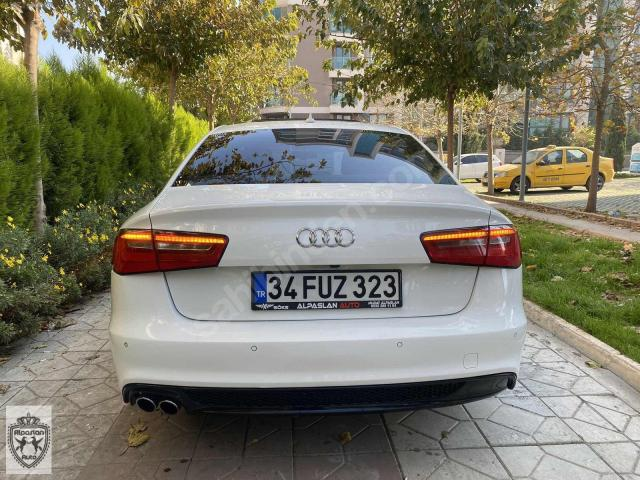plaka: (252, 270, 401, 309)
